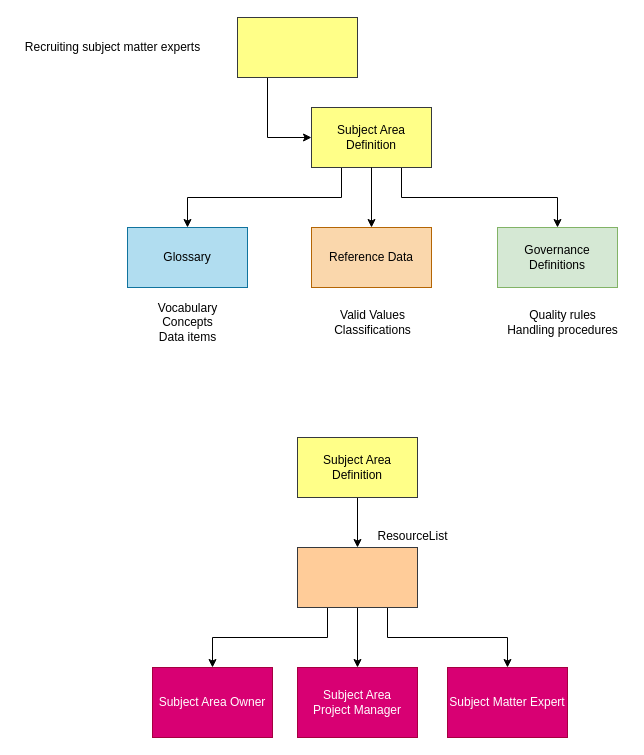
Some shapes in this 644 by 755 pixel diagram are drawn without their labels. Here are the shapes that lost their labels. From the top down, the centre of each, then its label:
At point (297, 47): "Subject Area Definition Set".
At point (357, 577): "Subject Area Community".
